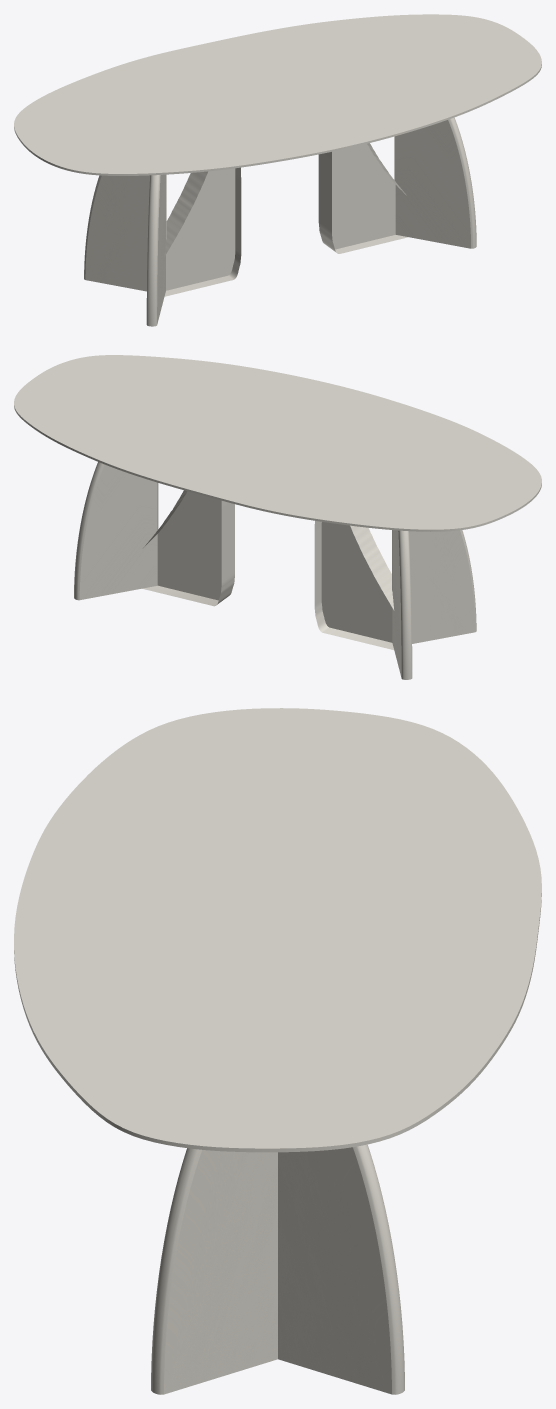
File: pale_danish_facet_plane.glb
3 renders of one model, top to bottom at view 1: azimuth 30°, elevation 25°; view 2: azimuth 150°, elevation 25°; view 3: azimuth 270°, elevation 25°, orthographic. The views are drawn at different scales.
Visible parts, largest first — view 1: facet_danish, plane_singleright2, plane_single1, plane_single2, plane_singleleft1, plane_singleright1; view 2: facet_danish, plane_singleleft2, plane_single1, plane_single2, plane_singleright1, plane_singleleft1; view 3: facet_danish, plane_singleleft2, plane_singleright2.
Part boxes in pixels (x1=…): facet_danish: x1=14, y1=14, x2=541, y2=175; plane_singleright2: x1=394, y1=117, x2=476, y2=248; plane_single1: x1=164, y1=167, x2=241, y2=296; plane_single2: x1=318, y1=143, x2=408, y2=253; plane_singleleft1: x1=84, y1=174, x2=166, y2=291; plane_singleright1: x1=146, y1=174, x2=165, y2=326; facet_danish: x1=14, y1=355, x2=541, y2=531; plane_singleleft2: x1=74, y1=462, x2=157, y2=600; plane_single1: x1=314, y1=521, x2=394, y2=649; plane_single2: x1=142, y1=490, x2=234, y2=606; plane_singleright1: x1=392, y1=530, x2=476, y2=643; plane_singleleft1: x1=392, y1=530, x2=412, y2=679; facet_danish: x1=14, y1=708, x2=541, y2=1152; plane_singleleft2: x1=278, y1=1144, x2=404, y2=1394; plane_singleright2: x1=151, y1=1148, x2=277, y2=1394.
Bounding box in the file's own units: 7.5 × 2.5 × 3.8.
1 material, 1 textured.
